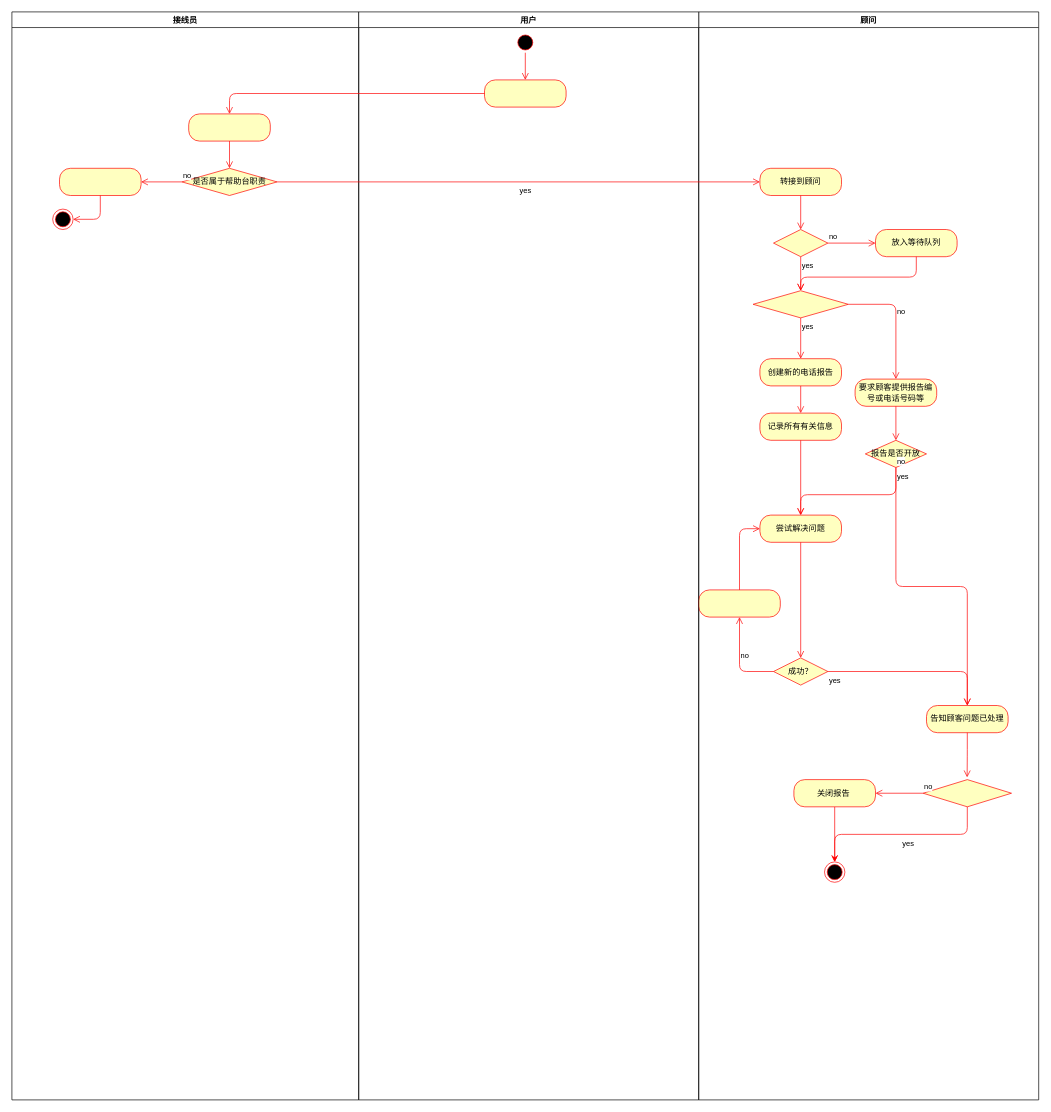
This 1051x1112 diagram has some shape labels left out. Each missing label, with the box of its shape:
为问题提供新细节: (698, 589, 780, 617)
打进电话: (484, 79, 566, 107)
报告是否关闭: (922, 779, 1012, 807)
确认是否首次打电话: (752, 290, 848, 318)
能否接电话: (773, 229, 828, 257)
询问电话性质: (188, 113, 270, 141)
转接出去: (59, 168, 141, 196)
